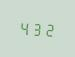four: (18, 19, 29, 36)
three: (31, 19, 42, 37)
two: (43, 20, 54, 37)
